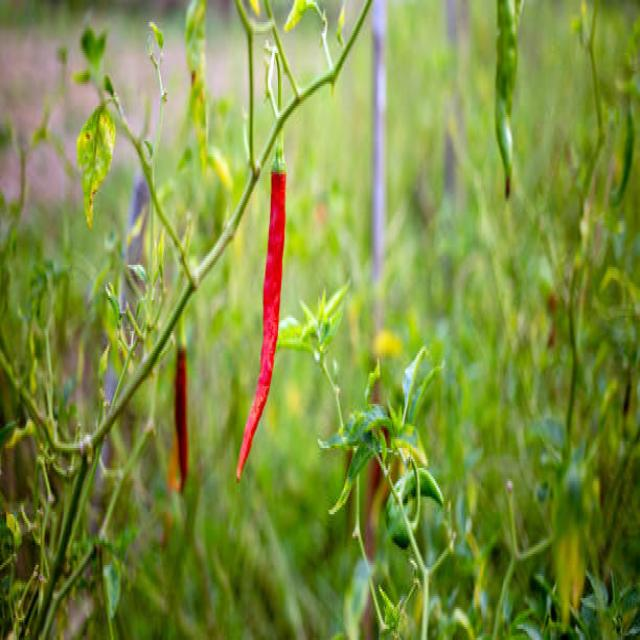Ripe: (236, 171, 286, 479)
Unripe: (495, 0, 522, 197)
